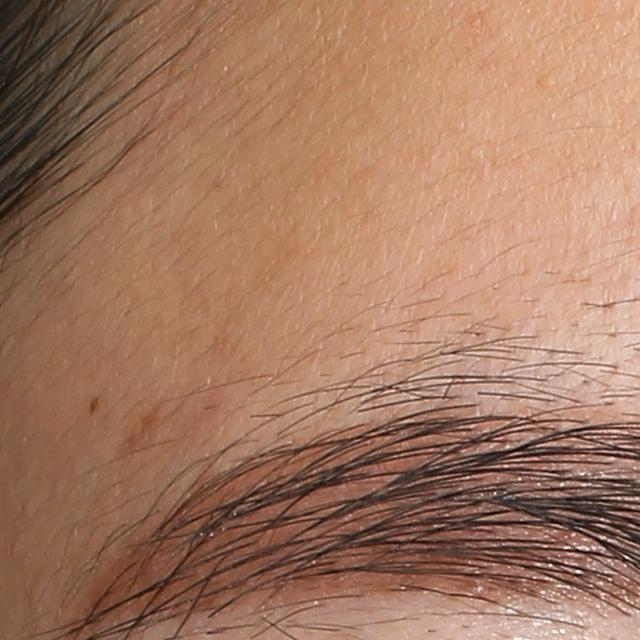comedo: (534, 70, 559, 92)
